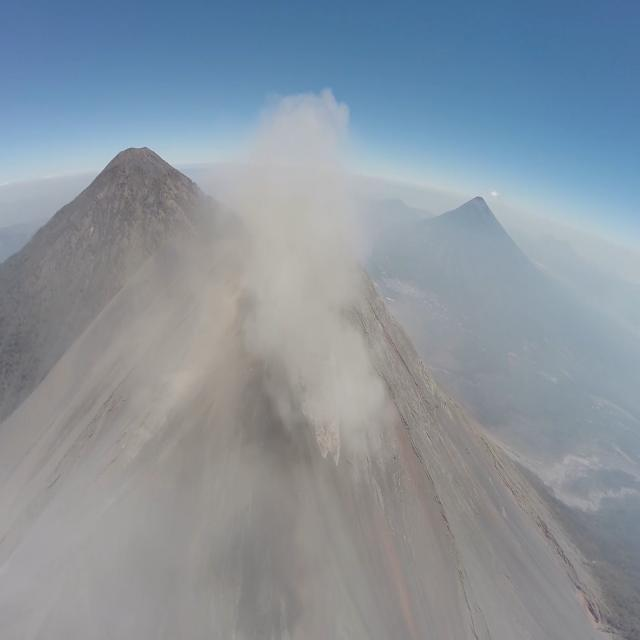Plume: (239, 77, 396, 483)
Summit: (195, 235, 448, 640)
